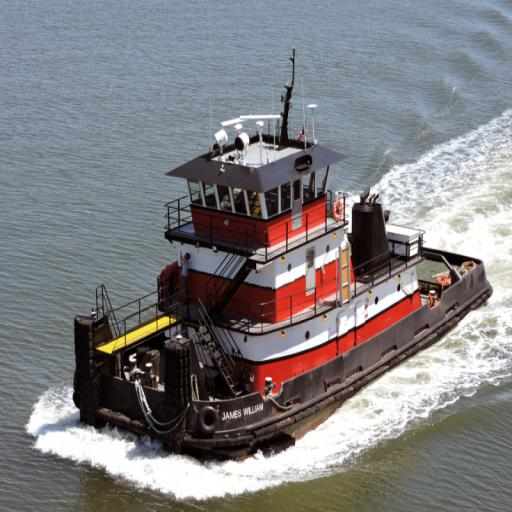tugboat: (70, 106, 498, 472)
